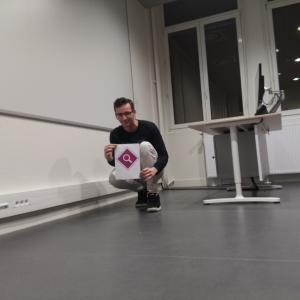search: (116, 146, 140, 170)
